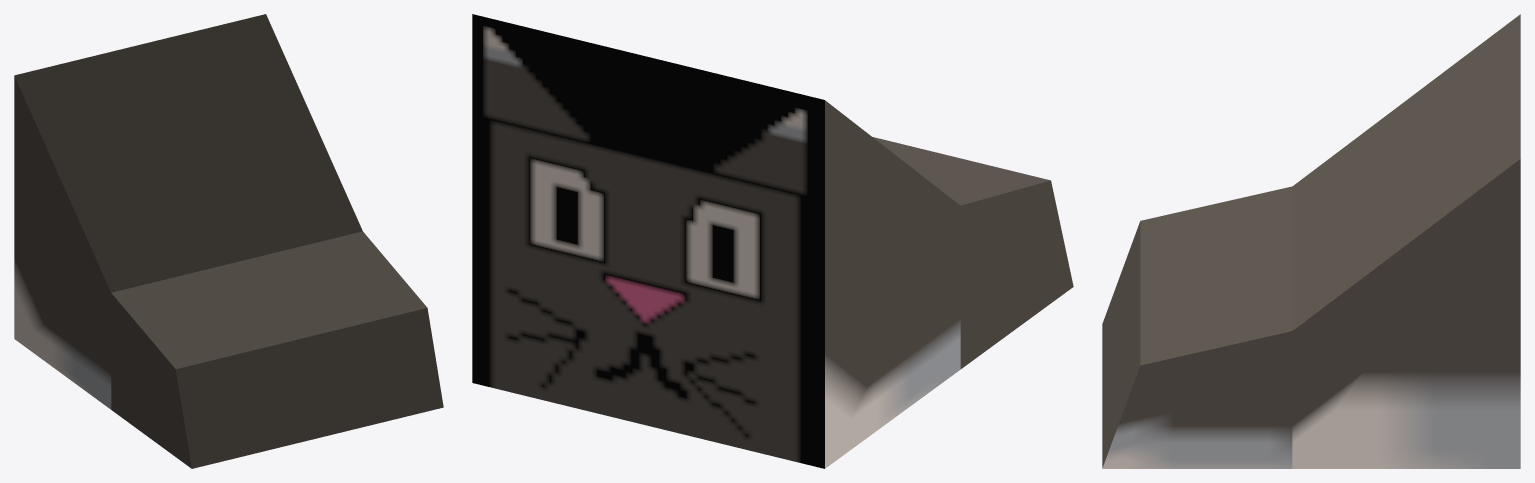
The model's file is cat.fbx.
3 renders of one model, left to right at view 1: azimuth 30°, elevation 25°; view 2: azimuth 150°, elevation 25°; view 3: azimuth 270°, elevation 25°, orthographic. The views are drawn at different scales.
Visible parts, largest first — view 1: cat; view 2: cat; view 3: cat.
Boxes of the visible parts, x1,y1,x2,y2 form: cat: [14, 14, 443, 468]; cat: [472, 14, 1073, 468]; cat: [1102, 14, 1520, 468].
Bounding box in the file's own units: 450 × 450 × 550.
Materials: 1 (1 with a texture image).
